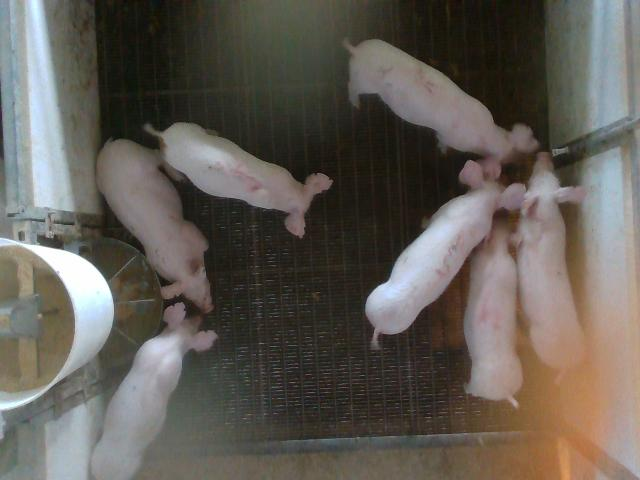pig-3: (365, 160, 525, 348)
pig-4: (464, 210, 522, 407)
pig-5: (145, 122, 332, 236)
